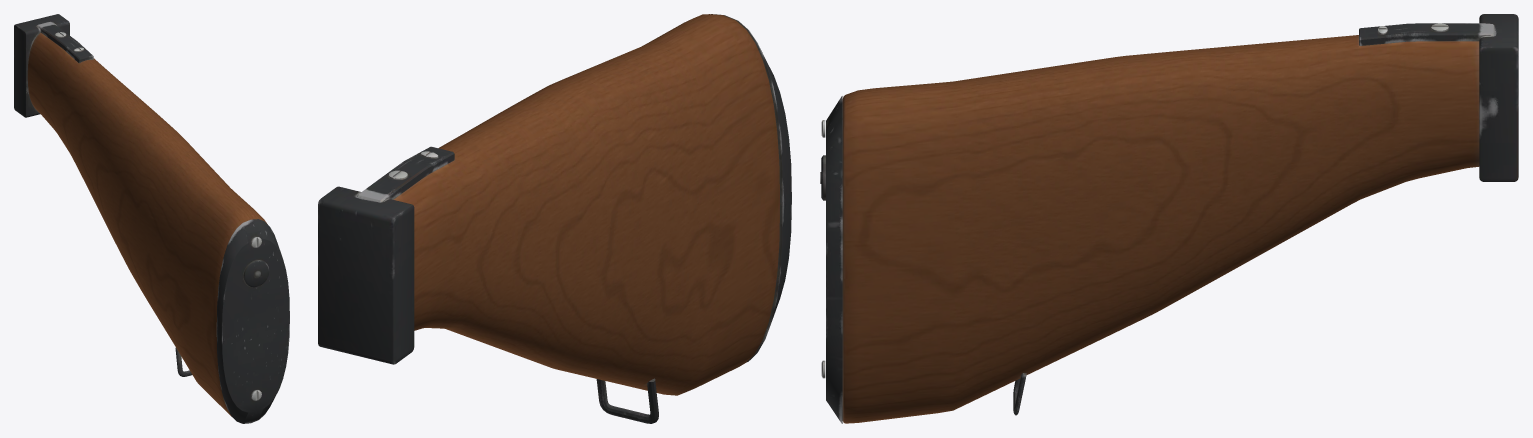
File: coronha_madeira_ak.glb
3 views of the same model, side by side, from view 1: azimuth 30°, elevation 25°; view 2: azimuth 150°, elevation 25°; view 3: azimuth 270°, elevation 25° (orthographic). The views are drawn at different scales.
Parts seen in each view (by area): view 1: coronha_madeira_ak_coronha; view 2: coronha_madeira_ak_coronha; view 3: coronha_madeira_ak_coronha.
Boxes of the visible parts, x1,y1,x2,y2 form: coronha_madeira_ak_coronha: (14, 14, 289, 423); coronha_madeira_ak_coronha: (318, 14, 791, 423); coronha_madeira_ak_coronha: (820, 14, 1518, 423).
Size of the model in its own units: 0.041 by 0.144 by 0.2314.
1 material, 1 textured.
